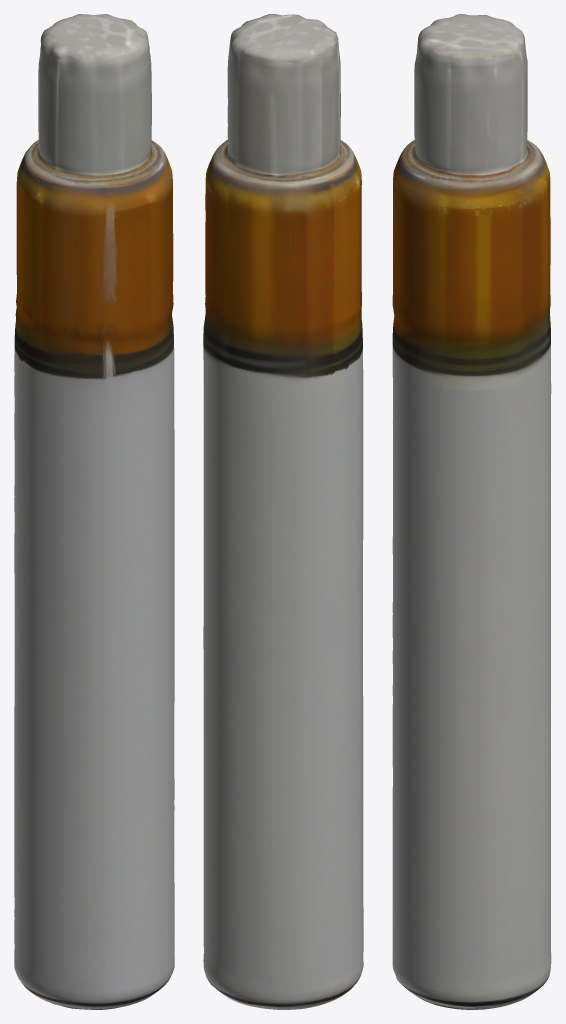
File: Meshy_AI_Vape_Pen_Still_Life_0203121805_texture(1)(1).glb
3 views of the same model, side by side, from view 1: azimuth 30°, elevation 25°; view 2: azimuth 150°, elevation 25°; view 3: azimuth 270°, elevation 25° (orthographic).
Bounding box in the file's own units: 0.3065 × 2.01 × 0.3042.
Materials: 1 (1 with a texture image).
